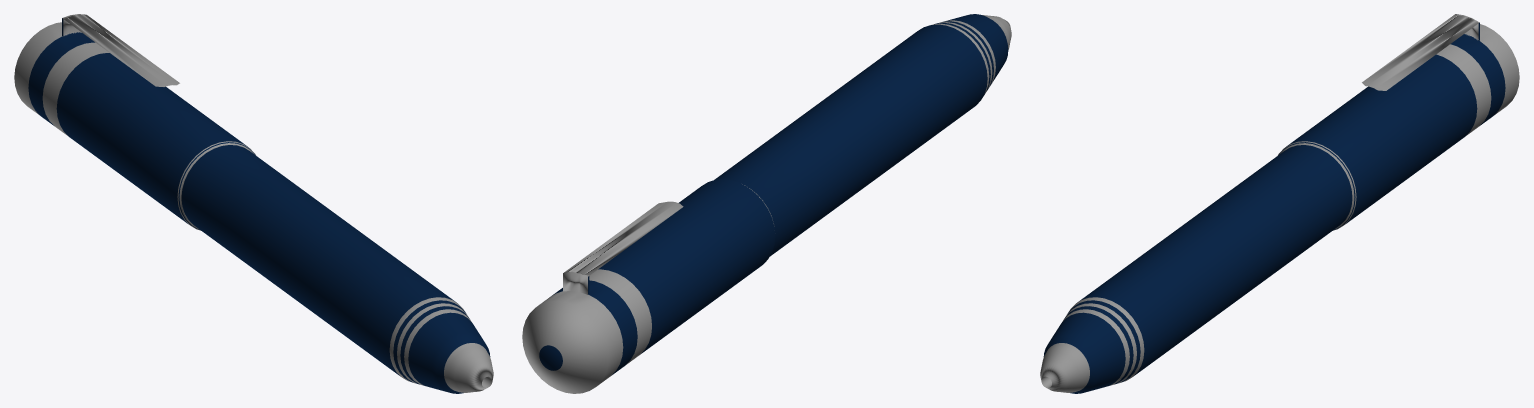
The model's file is pen.fbx.
The picture shows the model from 3 angles, left to right: view 1: azimuth 30°, elevation 25°; view 2: azimuth 150°, elevation 25°; view 3: azimuth 330°, elevation 25°; orthographic projection. The views are drawn at different scales.
Parts seen in each view (by area): view 1: Cylinder; view 2: Cylinder; view 3: Cylinder.
Boxes of the visible parts, x1,y1,x2,y2 form: Cylinder: (14,14,493,393); Cylinder: (522,14,1011,393); Cylinder: (1040,14,1519,393).
Size of the model in its own units: 49.04 by 58.87 by 446.
